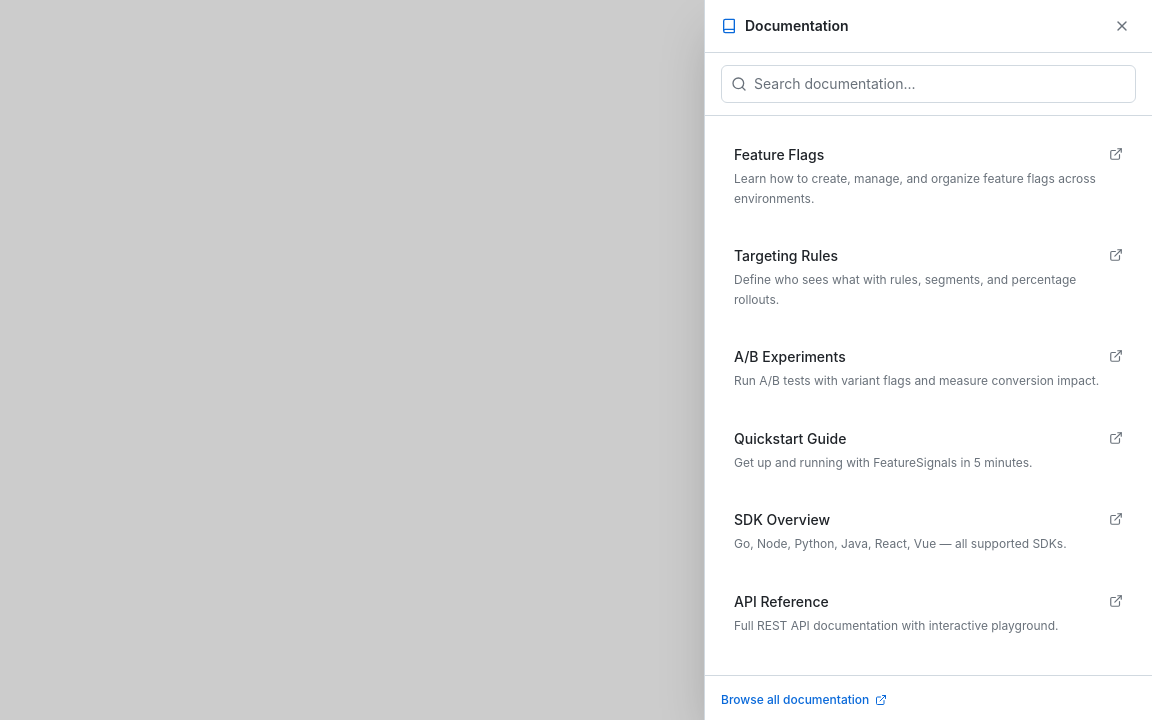
DocsPanel › shows empty state for no search results
Type "xyznonexistent" into the field with placeholder "Search documentation..." at (928, 84), box 721,65 -> 1136,103
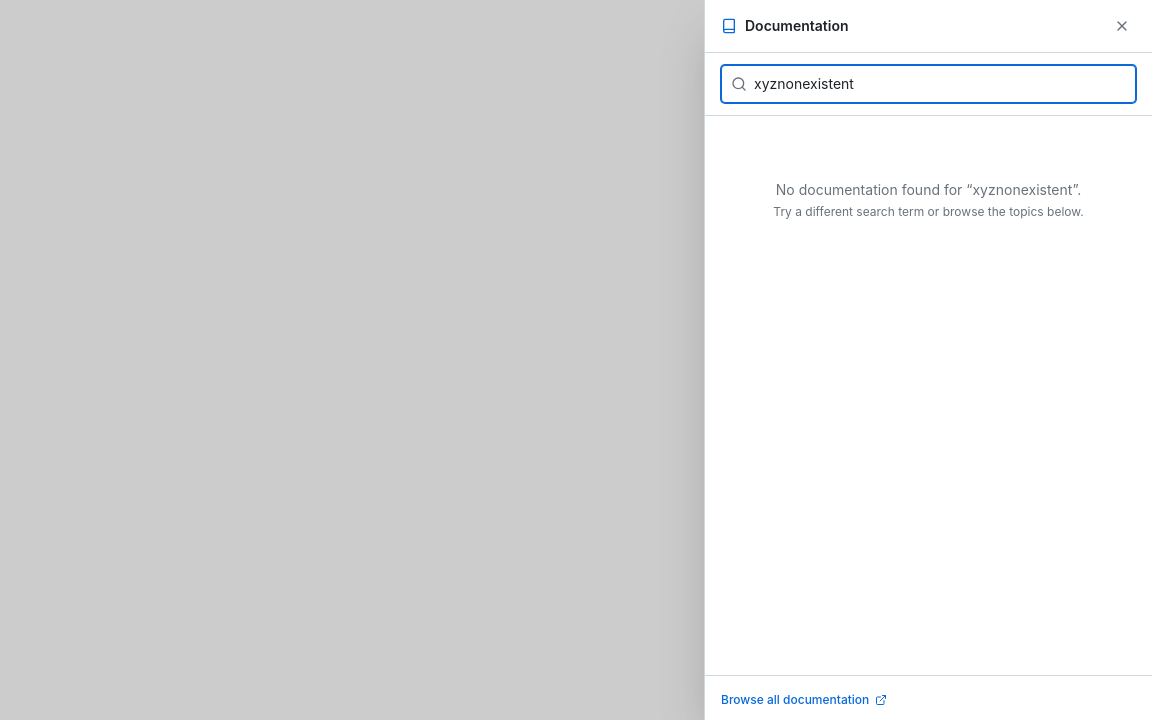
Now the text "No documentation found for “xyznonexistent”." is shown, box 776,181 -> 1081,198
